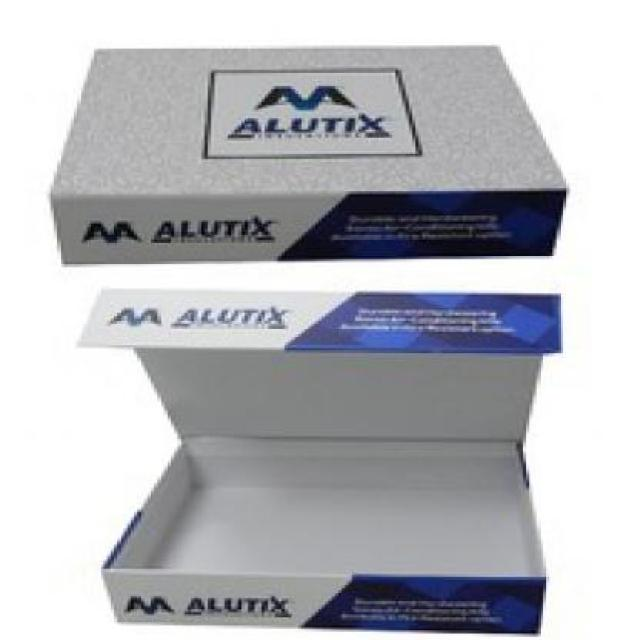box: (63, 280, 575, 640), (40, 38, 589, 275)
